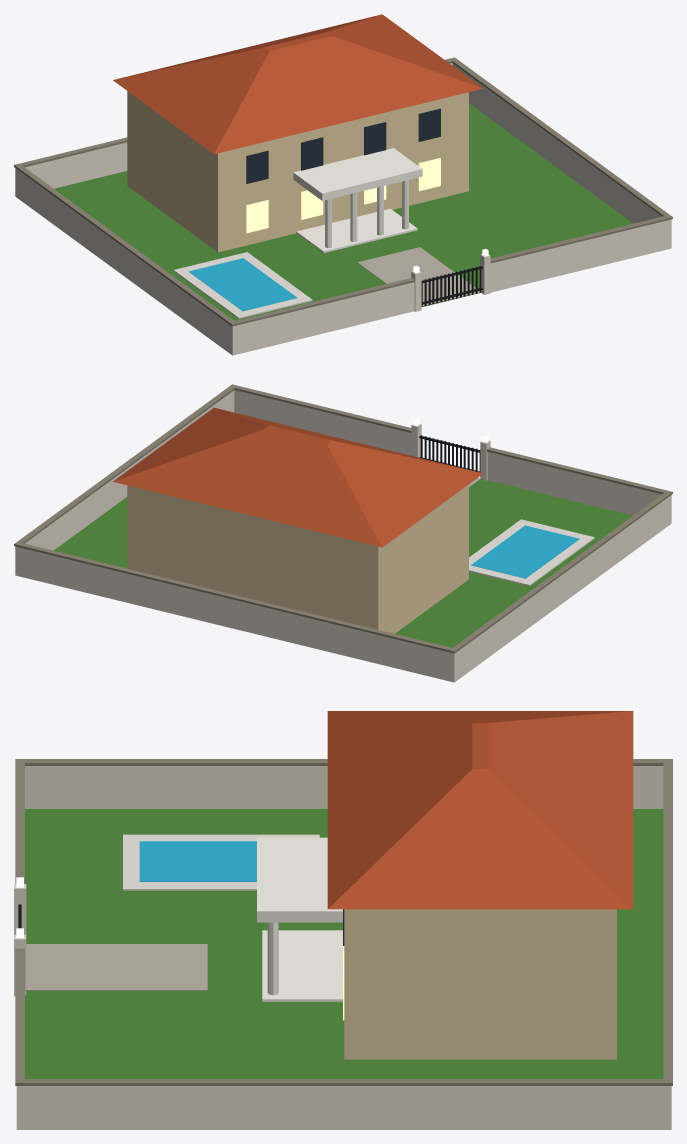
Rendered from bld_lx_villa_b.glb.
3 views of the same model, one above another, from view 1: azimuth 30°, elevation 25°; view 2: azimuth 150°, elevation 25°; view 3: azimuth 270°, elevation 25° (orthographic). The views are drawn at different scales.
Visible parts, largest first — view 1: bld_lx_villa_b; view 2: bld_lx_villa_b; view 3: bld_lx_villa_b.
Boxes of the visible parts, x1=… form: bld_lx_villa_b: x1=14, y1=14, x2=672, y2=355; bld_lx_villa_b: x1=14, y1=384, x2=672, y2=682; bld_lx_villa_b: x1=14, y1=711, x2=672, y2=1129.
Size of what is drawn, in the model's own units: 28.1 by 9 by 24.15.
